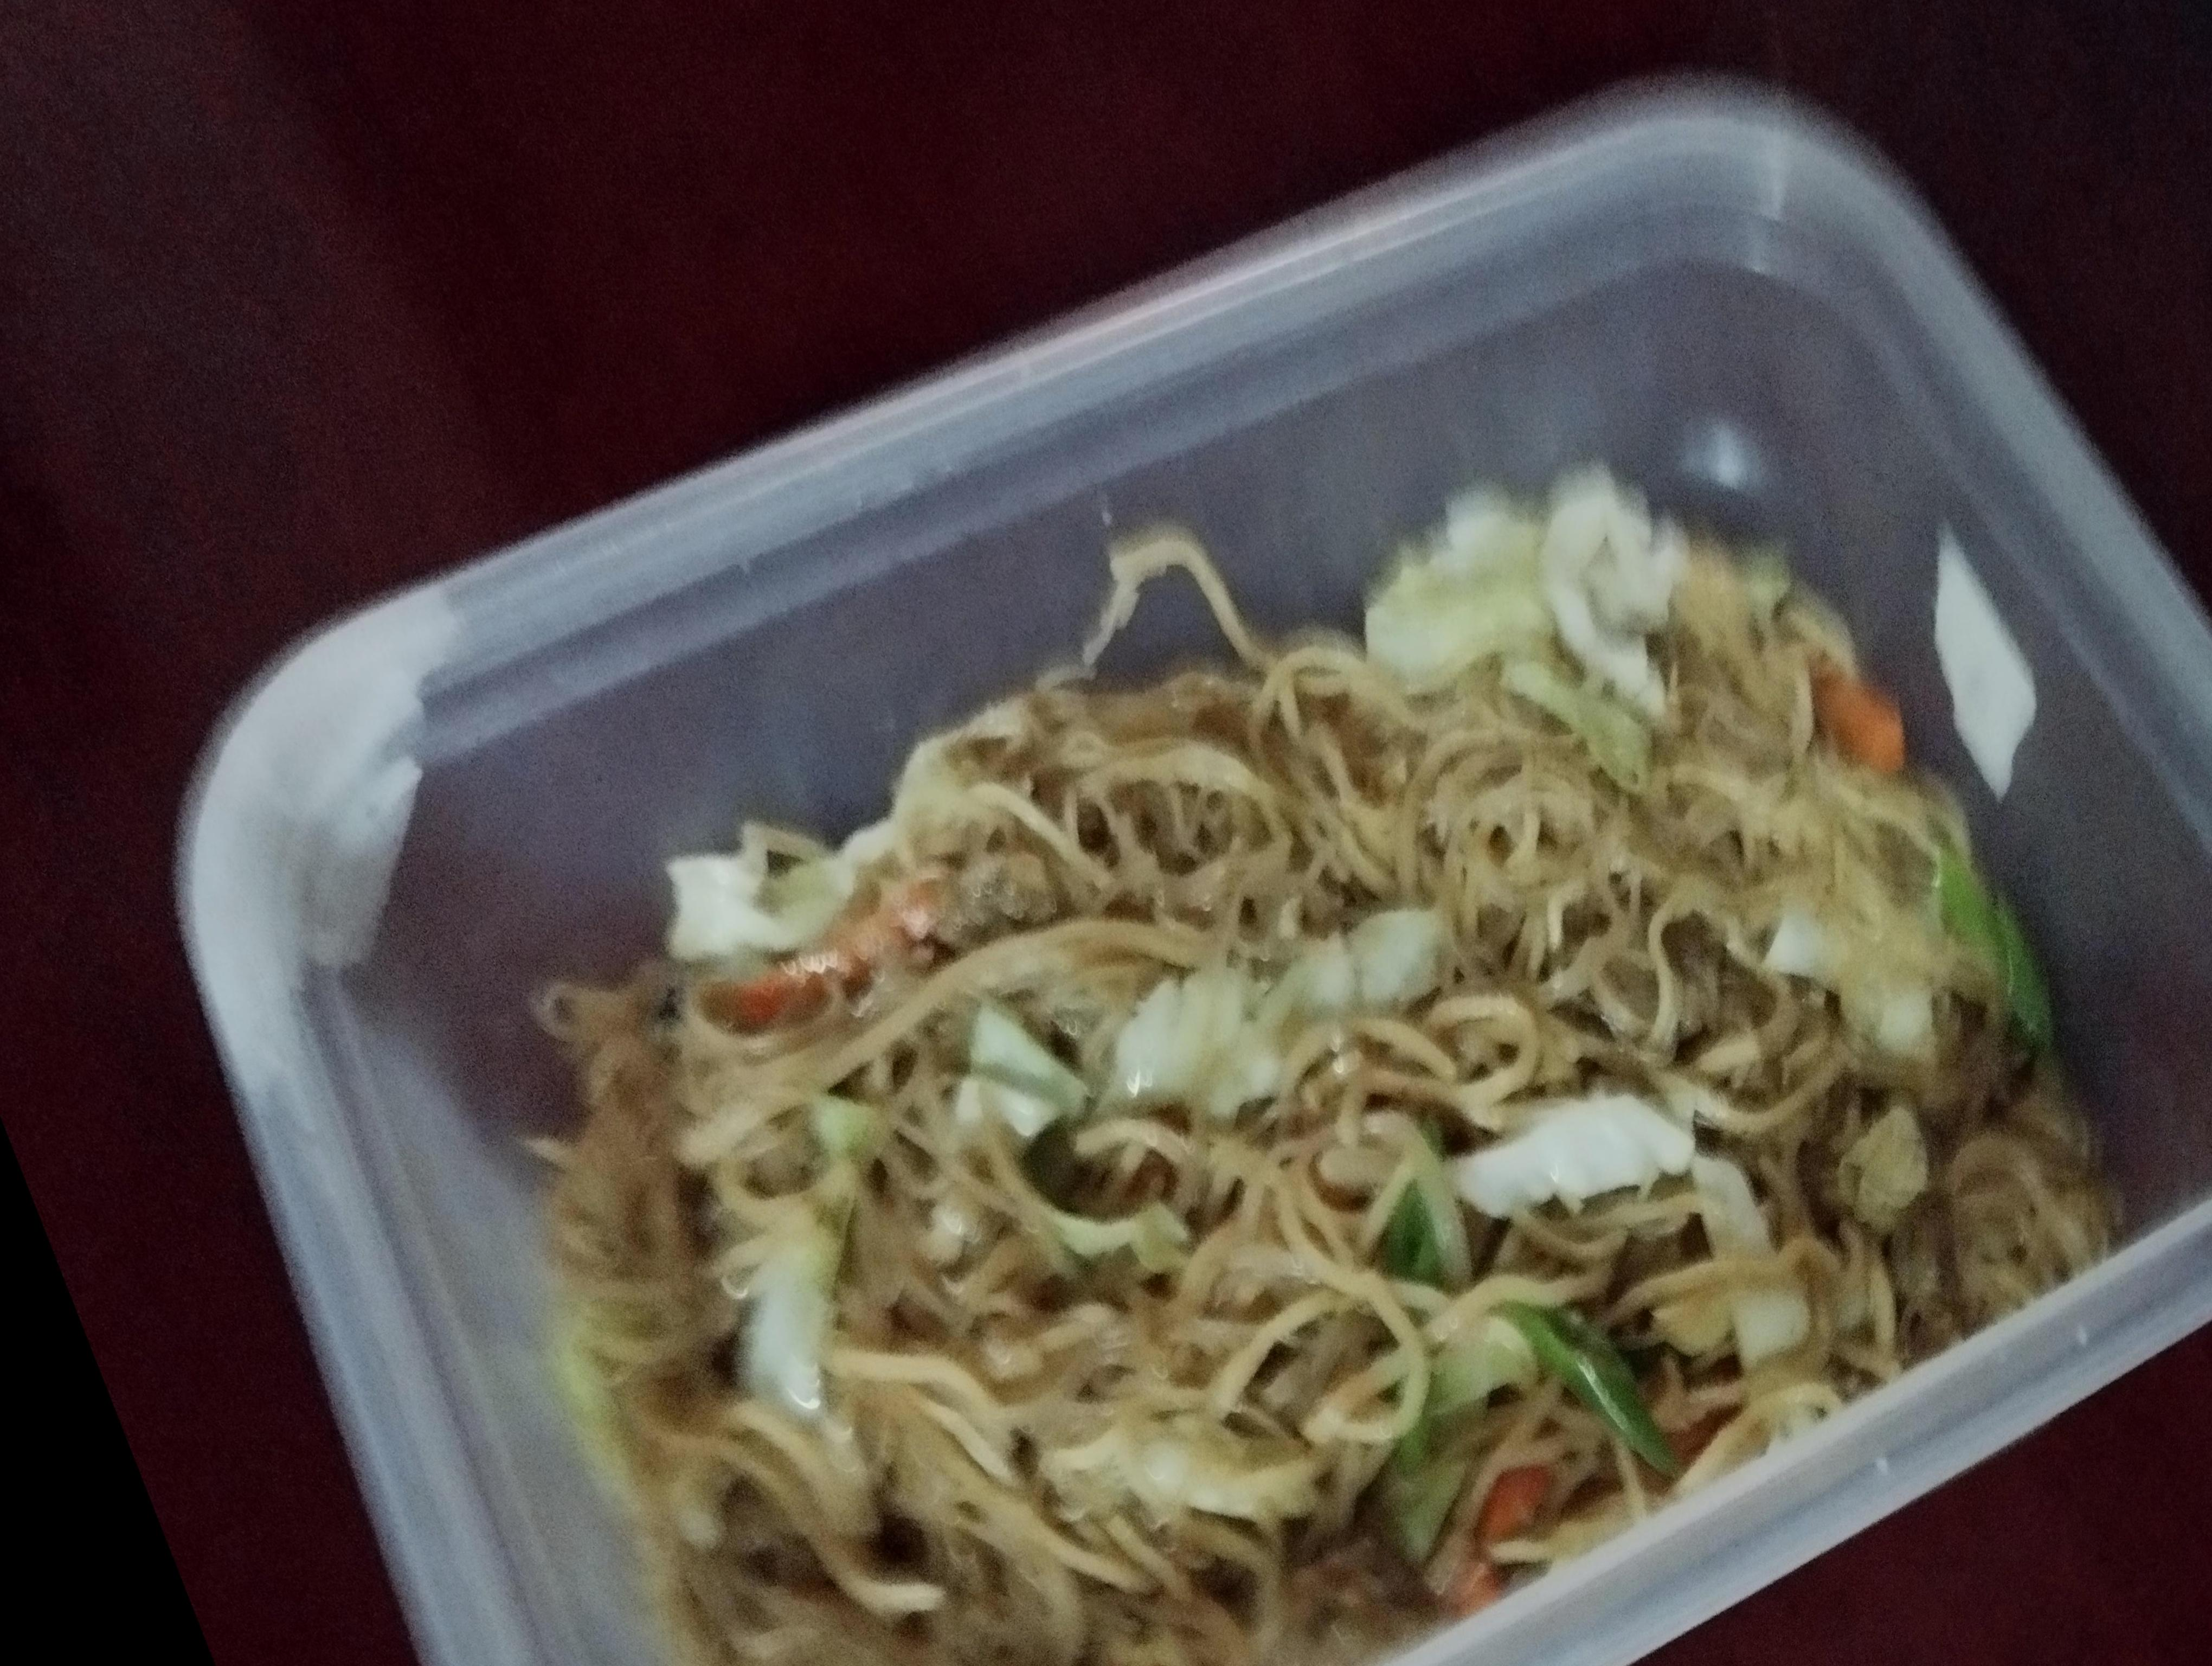pancit bihon: (521, 497, 2090, 1666)
